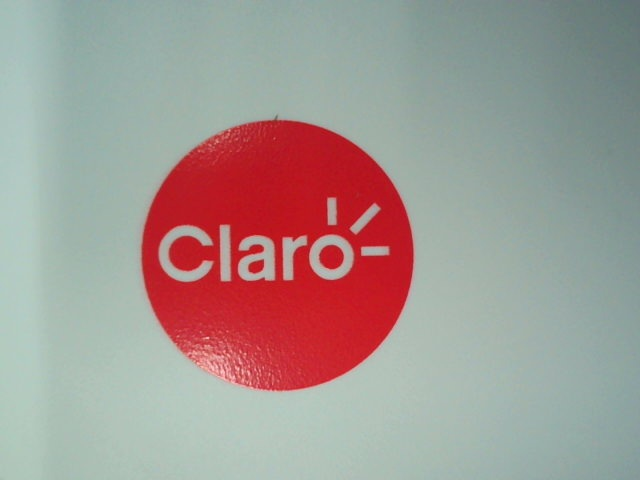BC_ClaorRed: (125, 113, 432, 402)
